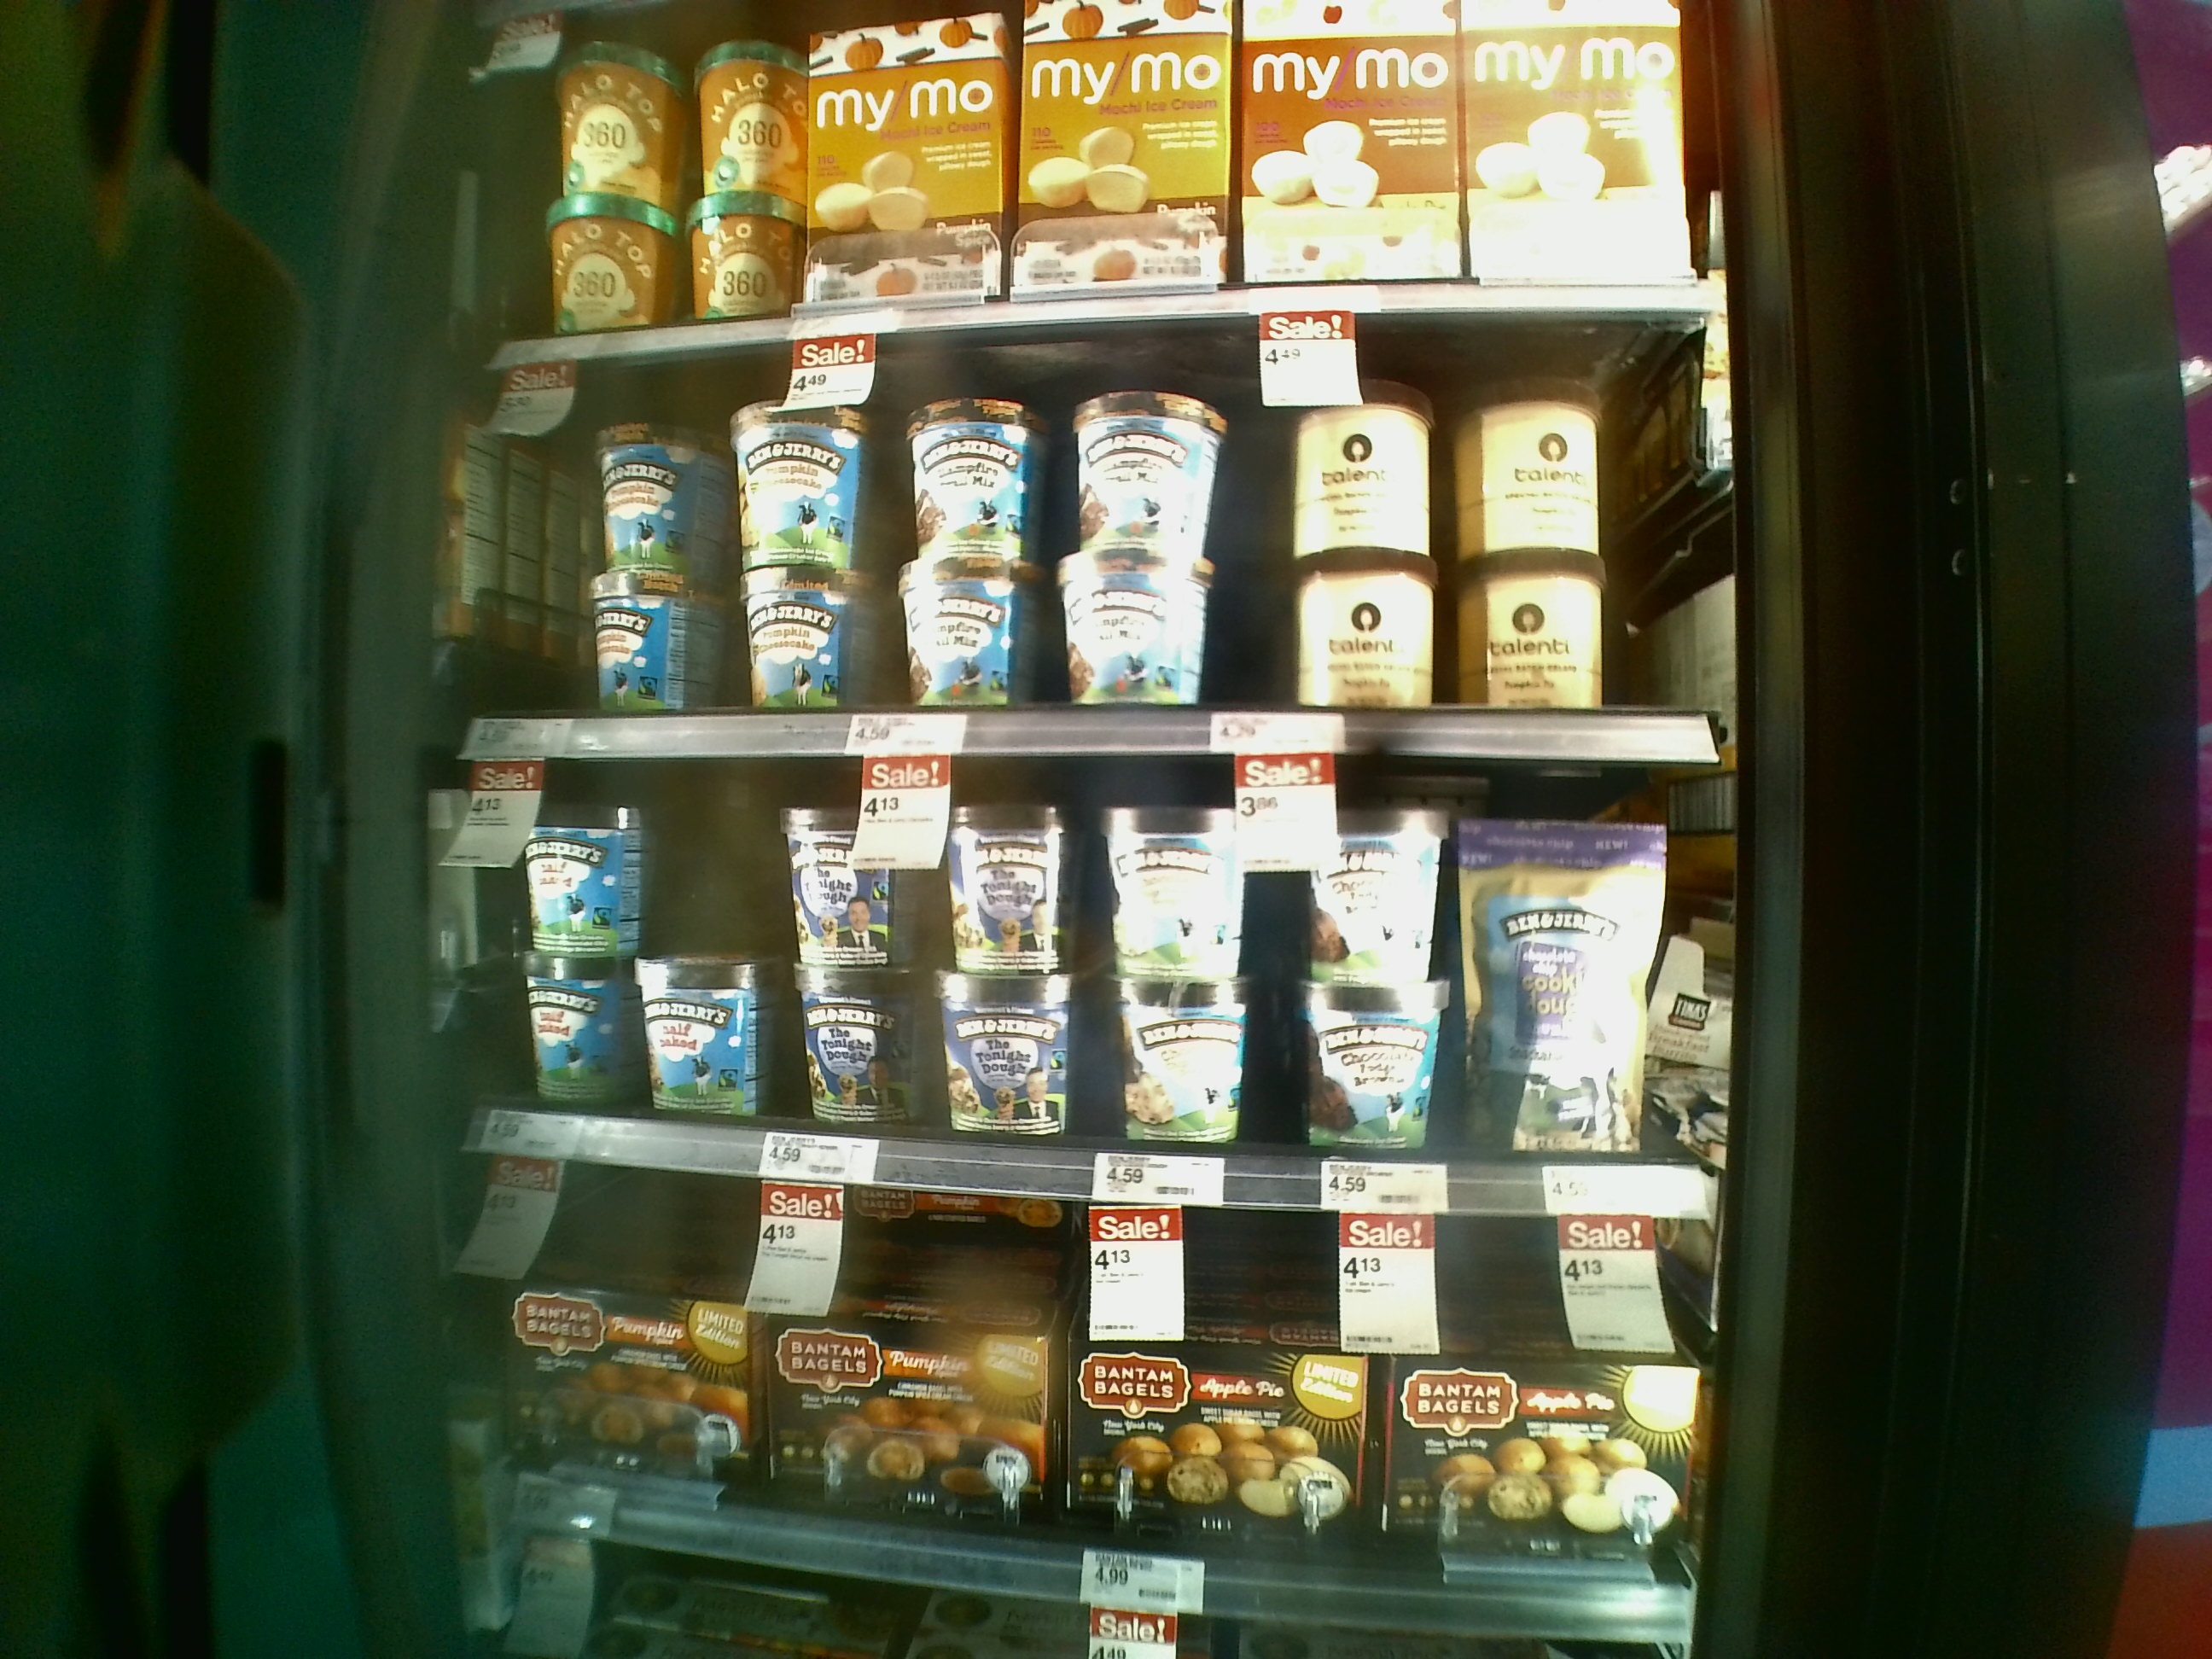shelf: (399, 1166, 1726, 1657), (415, 737, 1726, 1220), (432, 338, 1730, 763)
